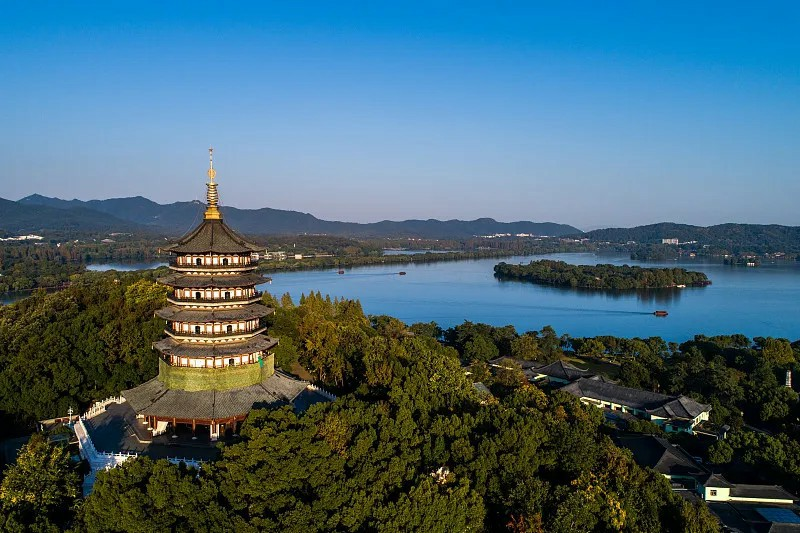Leifeng: (120, 145, 314, 446)
